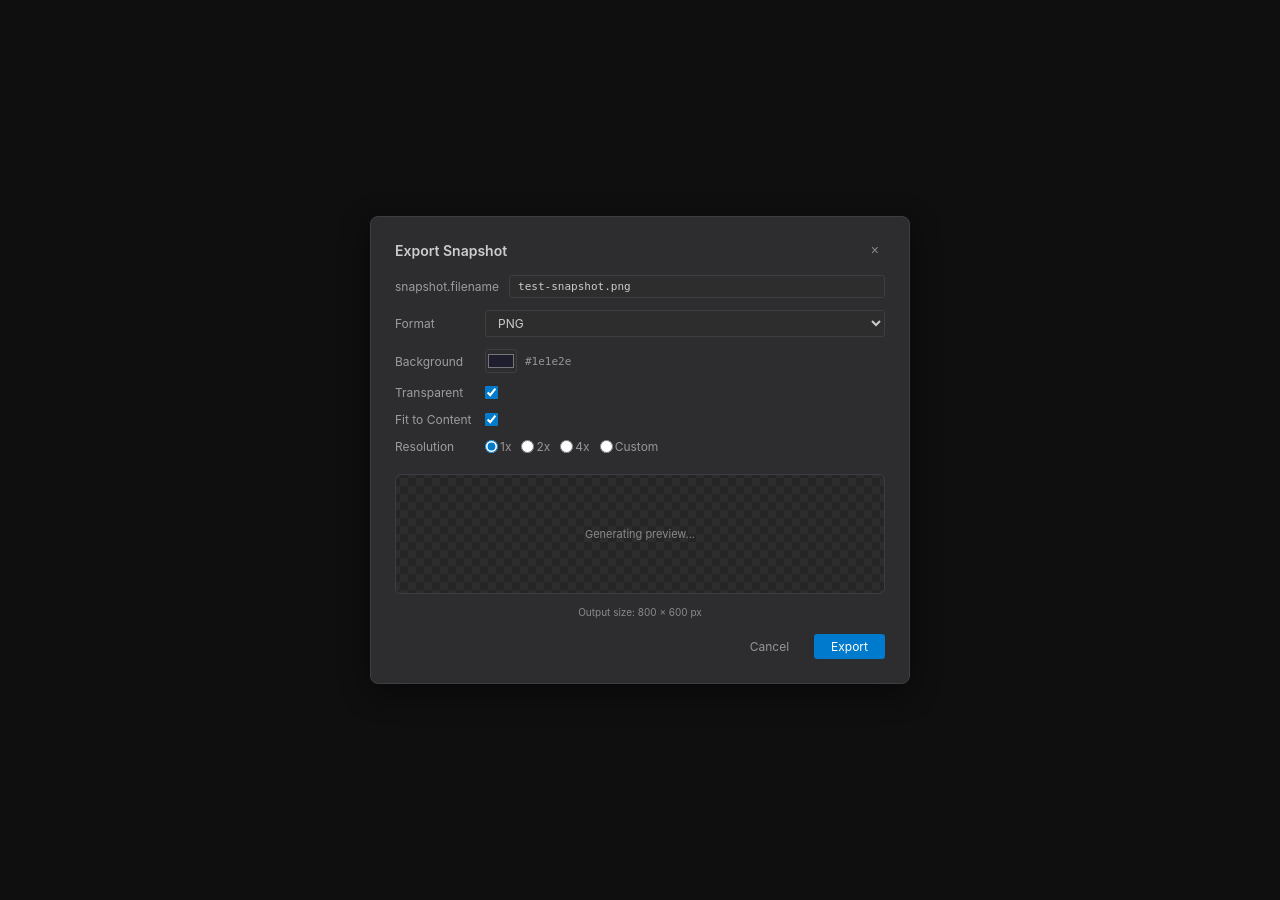
SnapshotExportDialog › should disable transparent checkbox when JPEG is selected
Select "JPEG" in the dropdown at (685,324), box [485, 310, 885, 337]
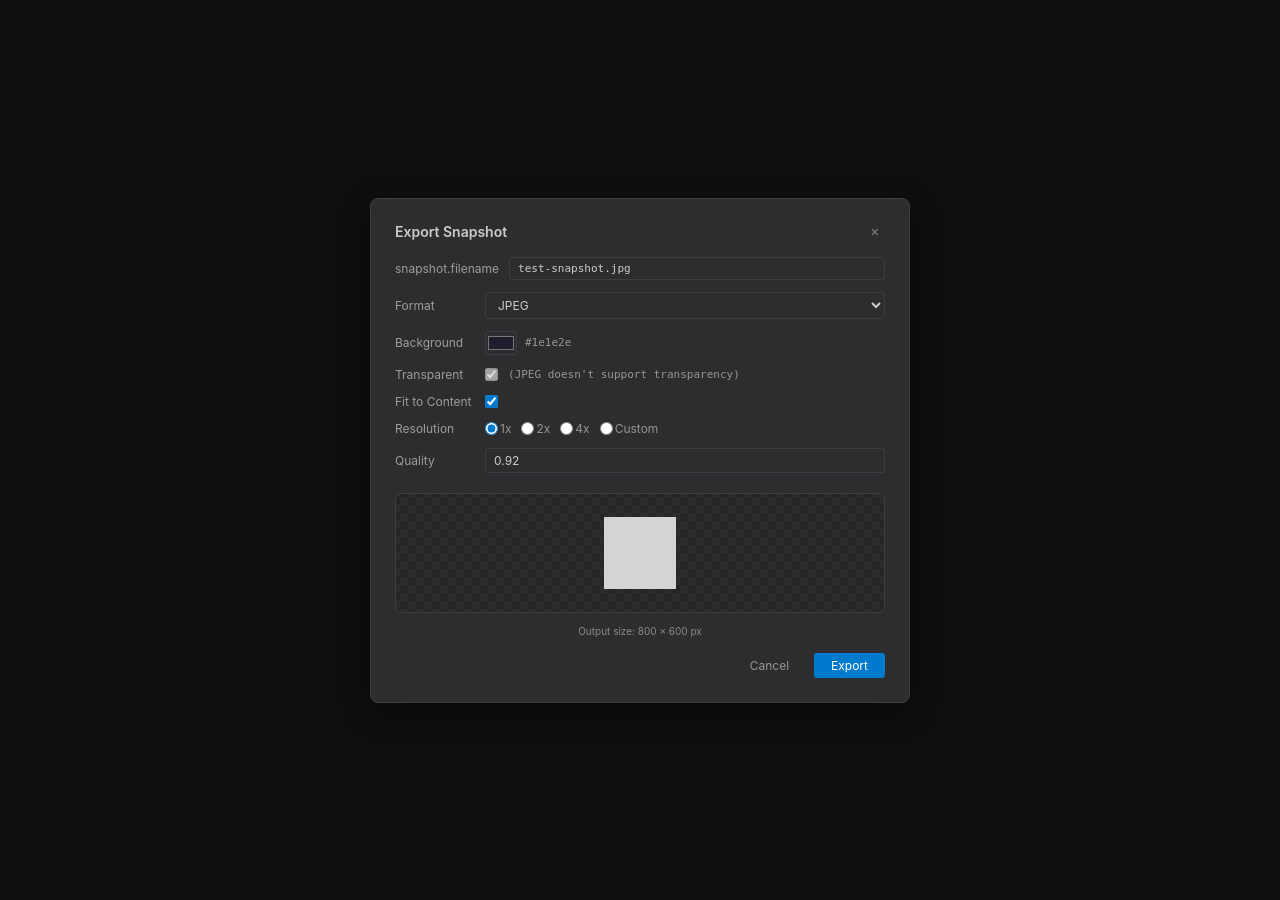
Expected: the checkbox next to "JPEG doesn't support transparency" is disabled, [485, 368, 498, 380]
